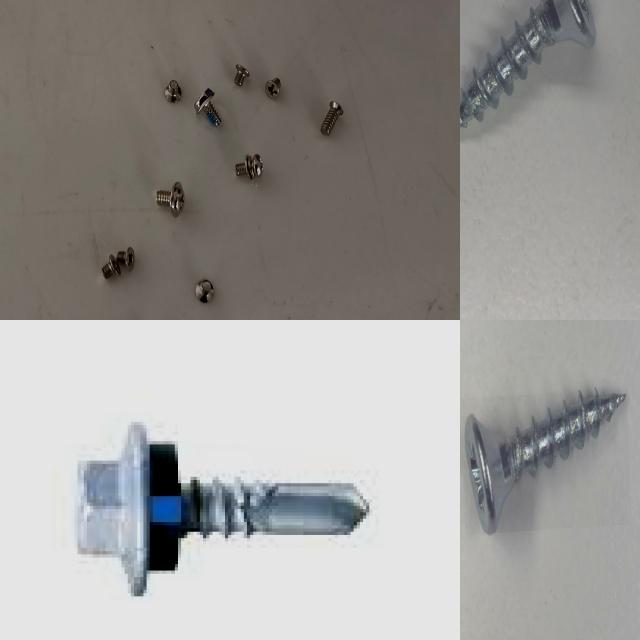Screw: (74, 425, 369, 596), (465, 391, 626, 534), (460, 0, 595, 127), (153, 177, 188, 220), (192, 84, 224, 128), (318, 99, 347, 138), (234, 150, 266, 183), (193, 275, 216, 304), (100, 252, 122, 280), (232, 62, 253, 90), (162, 78, 184, 104), (116, 244, 136, 271), (264, 74, 284, 100)
